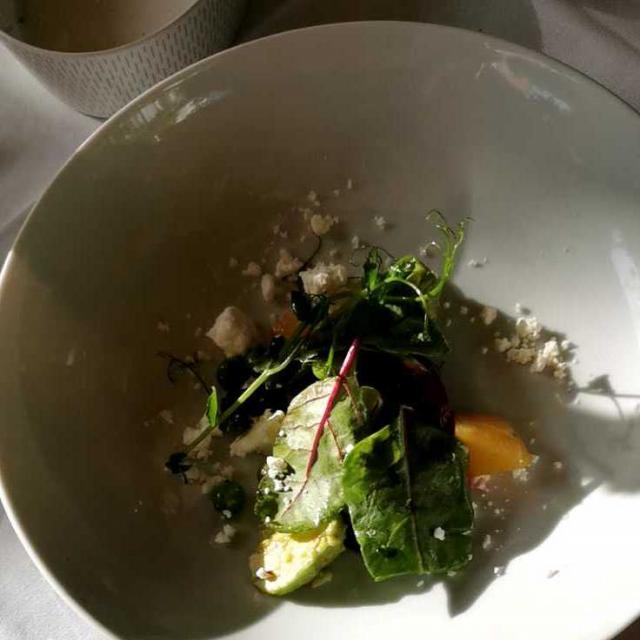mixed-salad-chopped-without-sauce: (202, 218, 587, 582)
